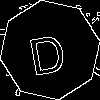D: (25, 25, 69, 76)
